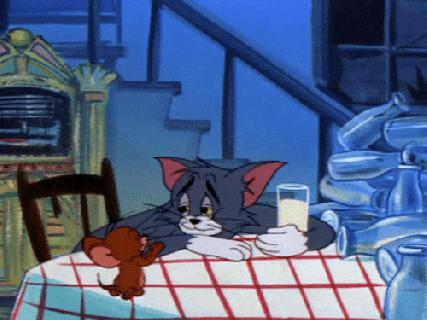jerry: (80, 225, 165, 301)
